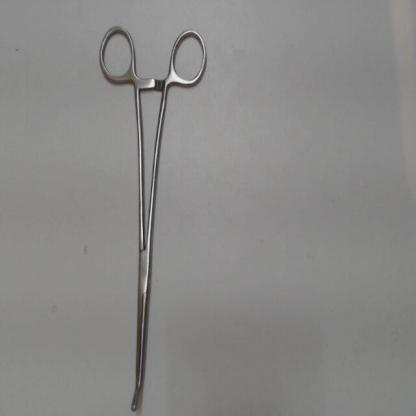Lahey Forceps: (90, 19, 211, 412)
